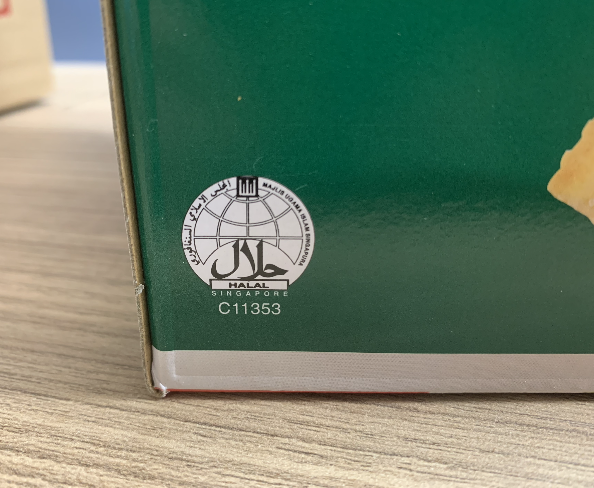halal: (201, 186, 299, 303)
